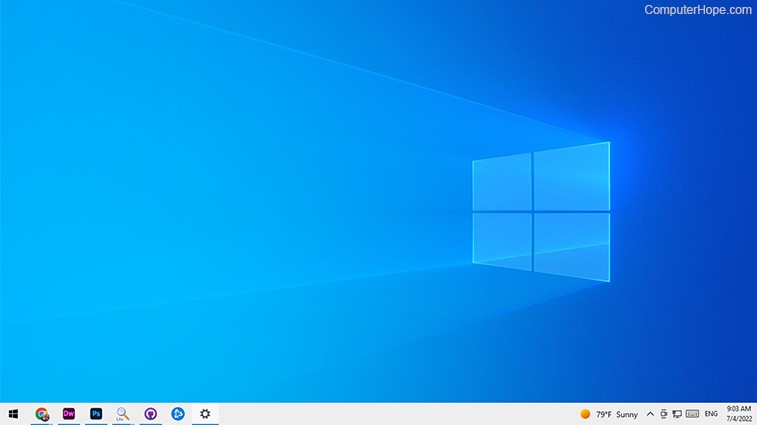start_bar: (6, 407, 24, 424)
